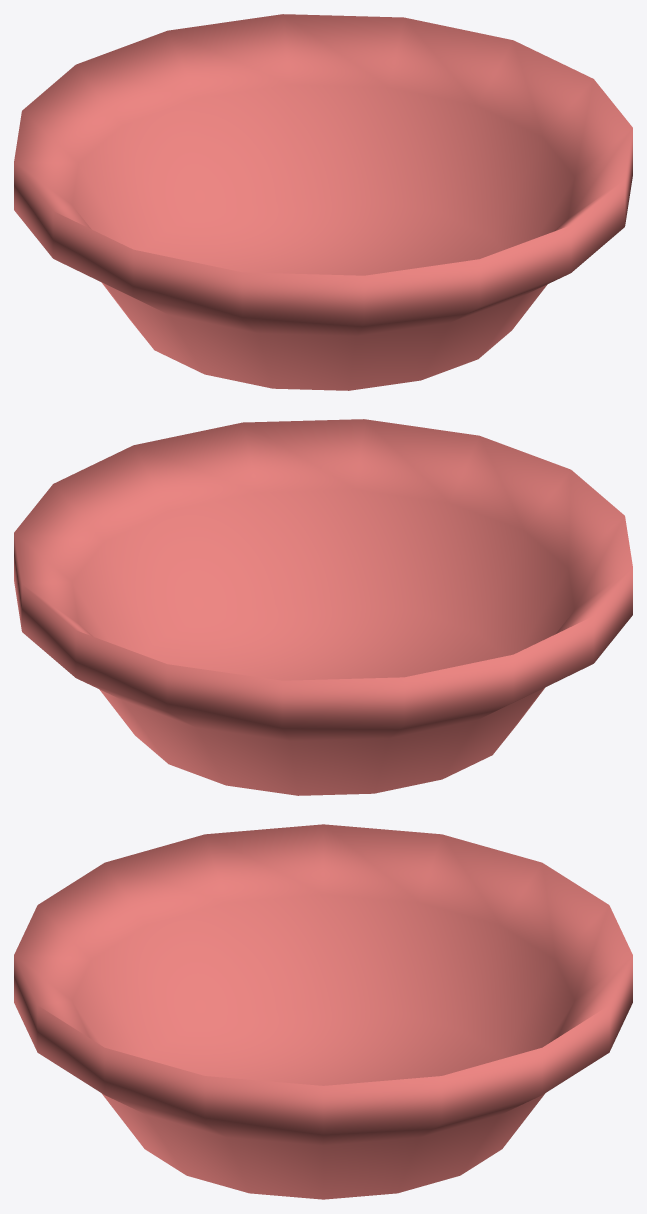
The model's file is bowl.fbx.
3 views of the same model, one above another, from view 1: azimuth 30°, elevation 25°; view 2: azimuth 150°, elevation 25°; view 3: azimuth 270°, elevation 25° (orthographic).
Visible parts, largest first — view 1: Bowl; view 2: Bowl; view 3: Bowl.
Boxes of the visible parts, x1=… form: Bowl: x1=14, y1=14, x2=632, y2=390; Bowl: x1=14, y1=419, x2=632, y2=795; Bowl: x1=14, y1=824, x2=632, y2=1199.
Bounding box in the file's own units: 61.88 × 61.88 × 17.94.
